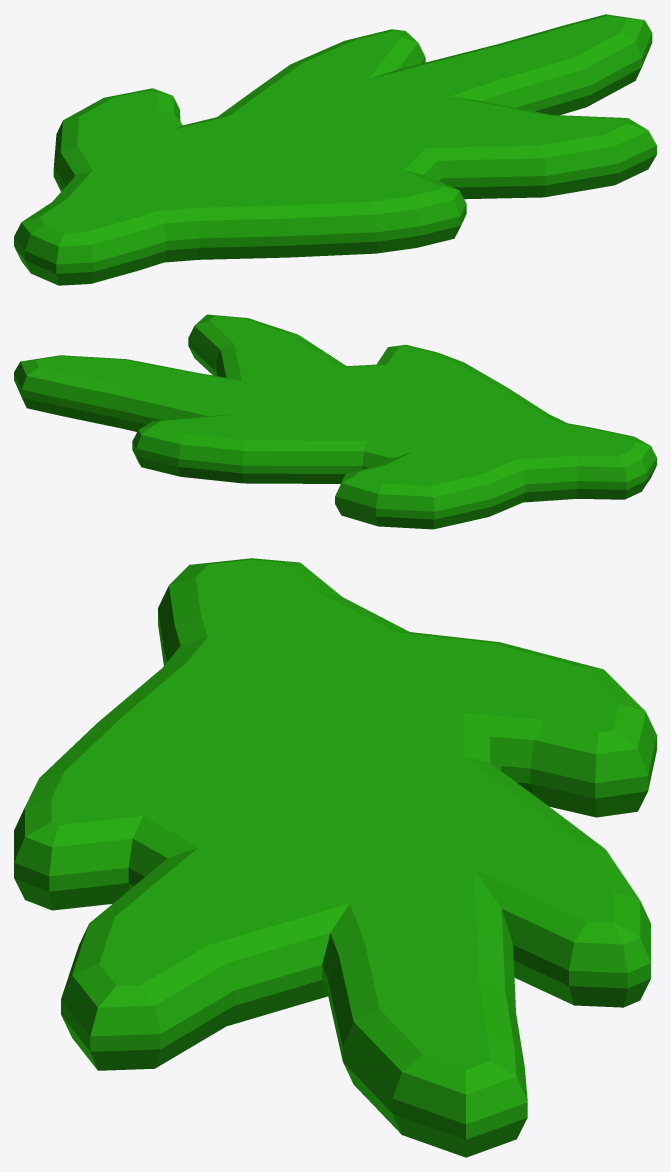
Rendered from Leaf.fbx.
3 views of the same model, one above another, from view 1: azimuth 30°, elevation 25°; view 2: azimuth 150°, elevation 25°; view 3: azimuth 270°, elevation 25° (orthographic). The views are drawn at different scales.
Parts seen in each view (by area): view 1: Plane; view 2: Plane; view 3: Plane.
Part boxes in pixels (<box>): Plane: <box>14,14,656,285</box>; Plane: <box>14,314,656,529</box>; Plane: <box>14,558,656,1157</box>.
Size of the model in its own units: 21.8 by 1.54 by 10.82.
